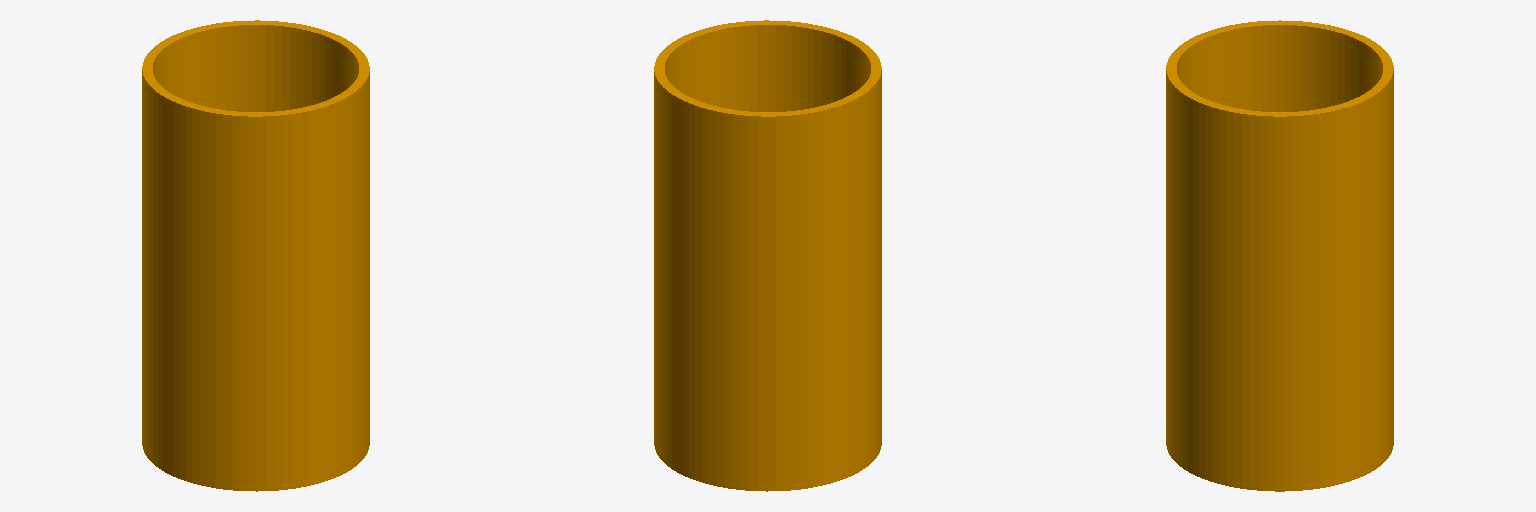
URDF robot description (liquid_container):
<?xml version="1.0"?>
<robot name="liquid_container">
  <link name="container_link">
    <inertial>
      <mass value="0.2"/> 
      <origin xyz="0 0 0.05"/>
      <inertia ixx="0.0001" ixy="0" ixz="0" iyy="0.0001" iyz="0" izz="0.0001"/>
    </inertial>
    <visual>
      <geometry>
        <mesh filename="package://so101_description/meshes/container.stl" scale="0.001 0.001 0.001"/>
      </geometry>
    </visual>
    <collision>
      <geometry>
        <mesh filename="package://so101_description/meshes/container.stl" scale="0.001 0.001 0.001"/>
      </geometry>
    </collision>
  </link>
  
  <gazebo reference="container_link">
    <material>Gazebo/Yellow</material>
    <mu1>1.0</mu1>
    <mu2>1.0</mu2>
    <self_collide>true</self_collide>
  </gazebo>
</robot>

--- Facts derived from the render (not from the file) ---
The picture shows the robot from 3 angles, left to right: view 1: azimuth 30°, elevation 25°; view 2: azimuth 150°, elevation 25°; view 3: azimuth 270°, elevation 25°; orthographic projection.
Robot: liquid_container — 1 links, 0 joints (none); root link container_link; default pose: all joints at 0.
Visible links, largest first — view 1: container_link; view 2: container_link; view 3: container_link.
Link boxes in pixels (x1,y1,x2,y2): container_link: [142, 20, 369, 491]; container_link: [654, 20, 881, 491]; container_link: [1166, 20, 1393, 491].
Bounding box of the posed robot: 0.044 × 0.044 × 0.08 m (x, y, z).
1 mesh visuals loaded from 1 distinct referenced files (1 binary STL).
